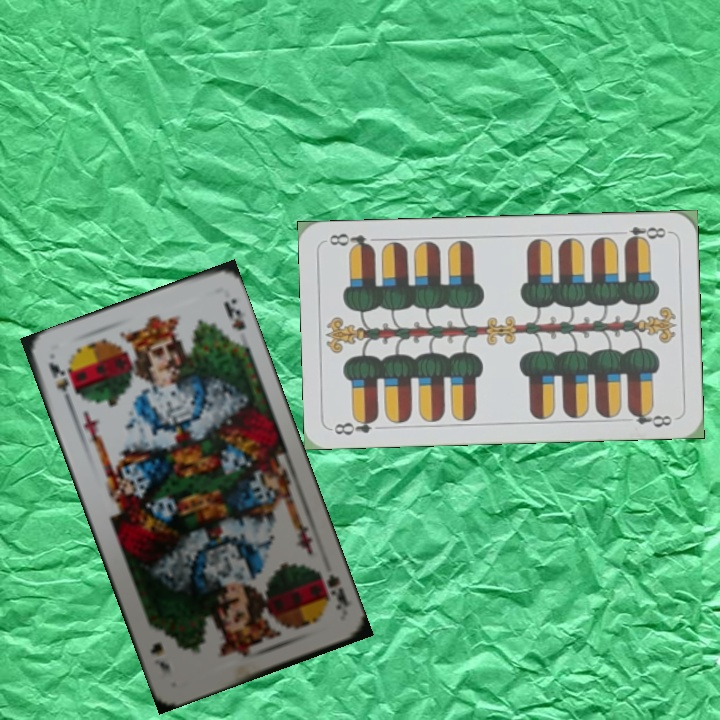E8: (613, 222, 672, 246), (330, 412, 381, 438)
SK: (44, 358, 77, 410), (322, 570, 353, 613)
